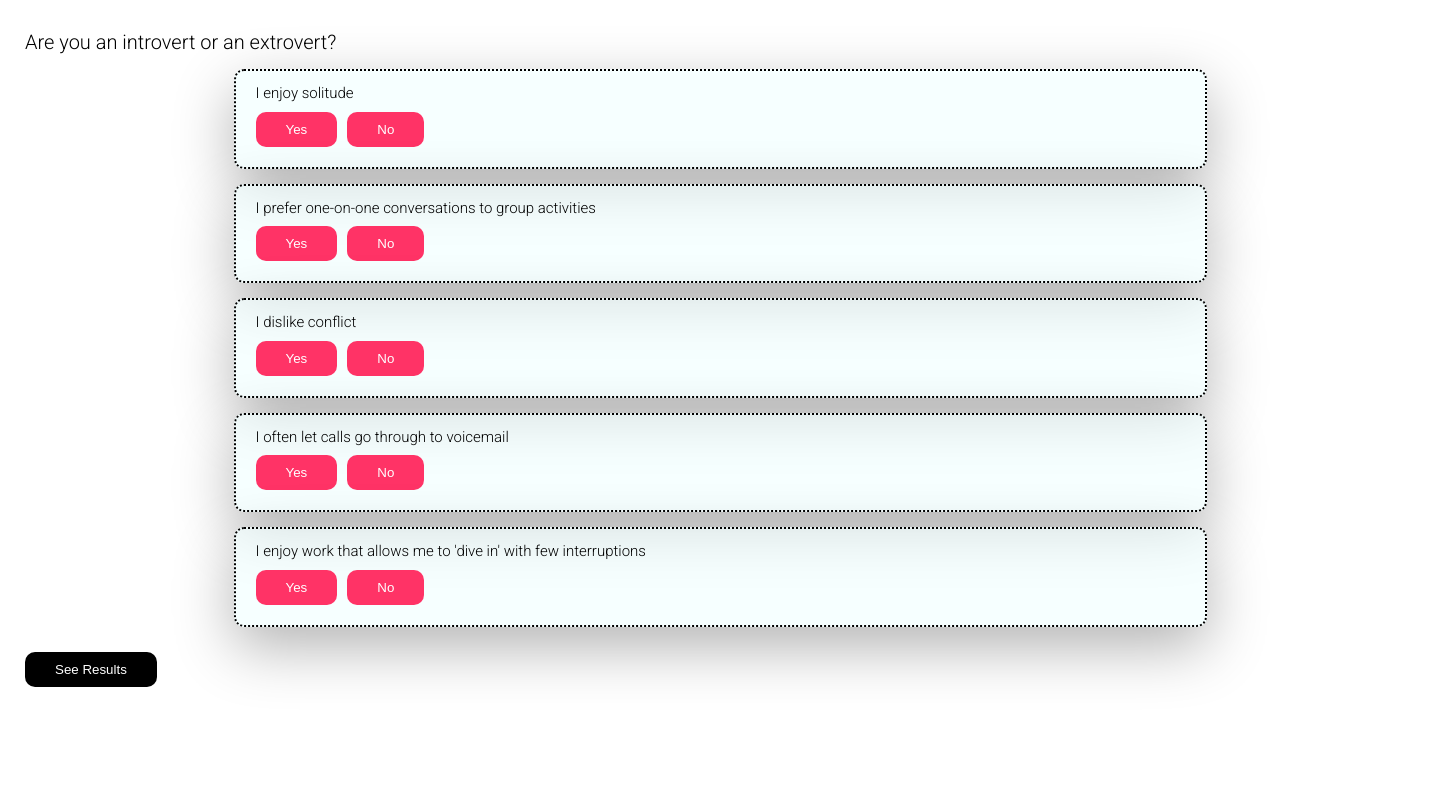
Test: PersonalityPage component › interactions › should display default message on 'See Results' button click
Click the button "See Results" at point(91, 669), box [25,652,157,686]
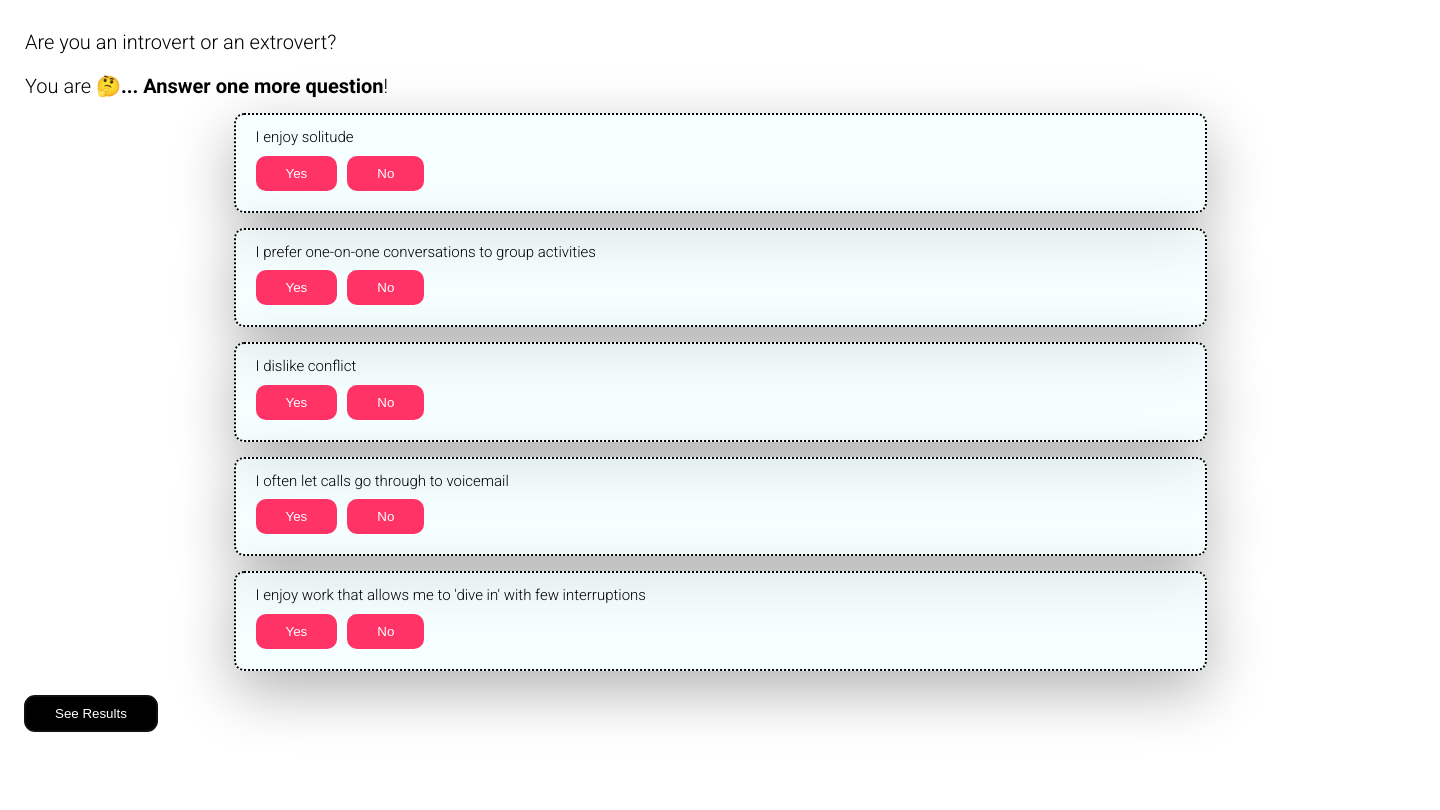
Result: the text "🤔... Answer one more question" is shown at [96,74,384,98]
